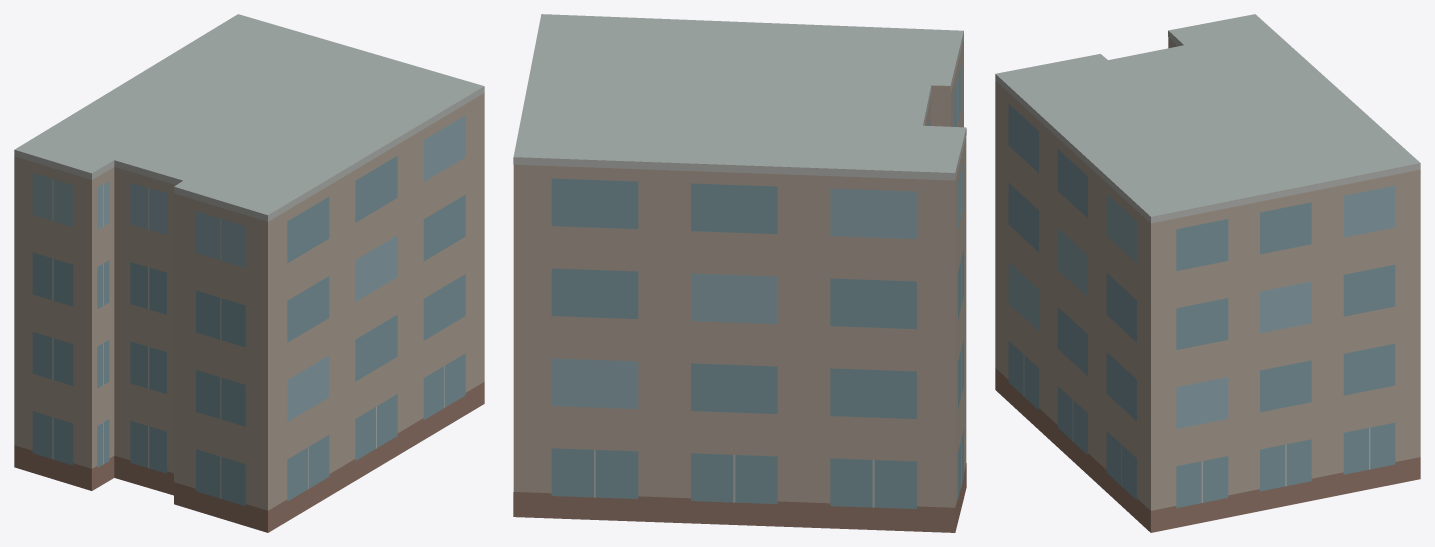
Rendered from survey-upis-32703719.glb.
3 renders of one model, left to right at view 1: azimuth 30°, elevation 25°; view 2: azimuth 150°, elevation 25°; view 3: azimuth 270°, elevation 25°, orthographic. The views are drawn at different scales.
Parts seen in each view (by area): view 1: survey-upis-32703719.tmp; view 2: survey-upis-32703719.tmp; view 3: survey-upis-32703719.tmp.
Boxes of the visible parts, left/top/right/bottom form: survey-upis-32703719.tmp: left=14, top=14, right=484, bottom=532; survey-upis-32703719.tmp: left=513, top=14, right=966, bottom=532; survey-upis-32703719.tmp: left=995, top=14, right=1420, bottom=532.
Size of the model in its own units: 16.12 by 11.7 by 14.28.
